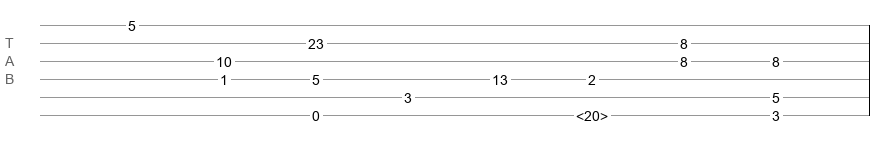0: (312, 108, 320, 118)
1: (220, 72, 228, 82)
10: (216, 54, 232, 64)
13: (492, 72, 508, 82)
2: (588, 72, 596, 82)
23: (308, 36, 324, 46)
3: (404, 90, 412, 100), (772, 108, 780, 118)
5: (128, 18, 136, 28), (312, 72, 320, 82), (772, 90, 780, 100)
8: (680, 54, 688, 64), (680, 36, 688, 46), (772, 54, 780, 64)
harmonic: (576, 108, 608, 118)
